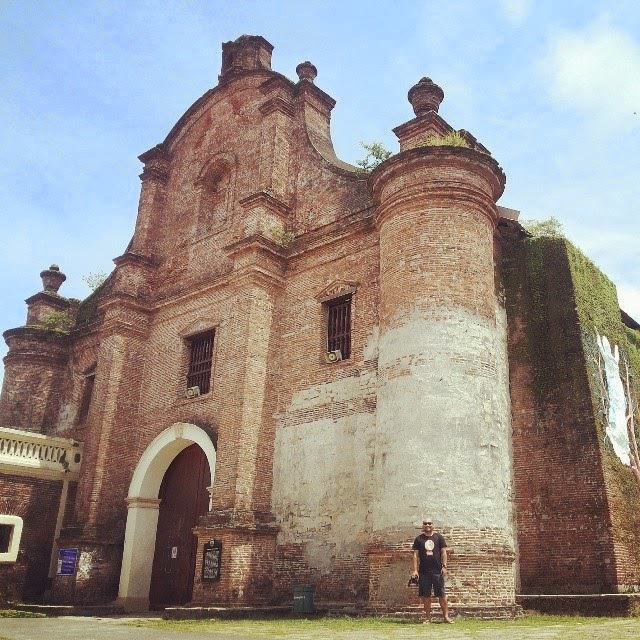Environmental Damage: (416, 131, 474, 154), (355, 141, 397, 172), (45, 304, 80, 336)
Sta. Maria Church: (6, 33, 516, 610)
Unfinished Paint: (275, 357, 518, 527)
